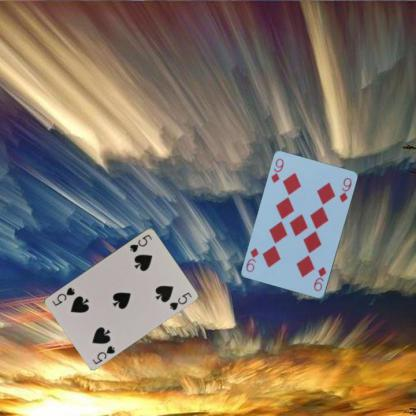5s: (127, 232, 153, 254), (90, 343, 116, 365)
9d: (312, 265, 328, 293), (269, 156, 285, 184)
